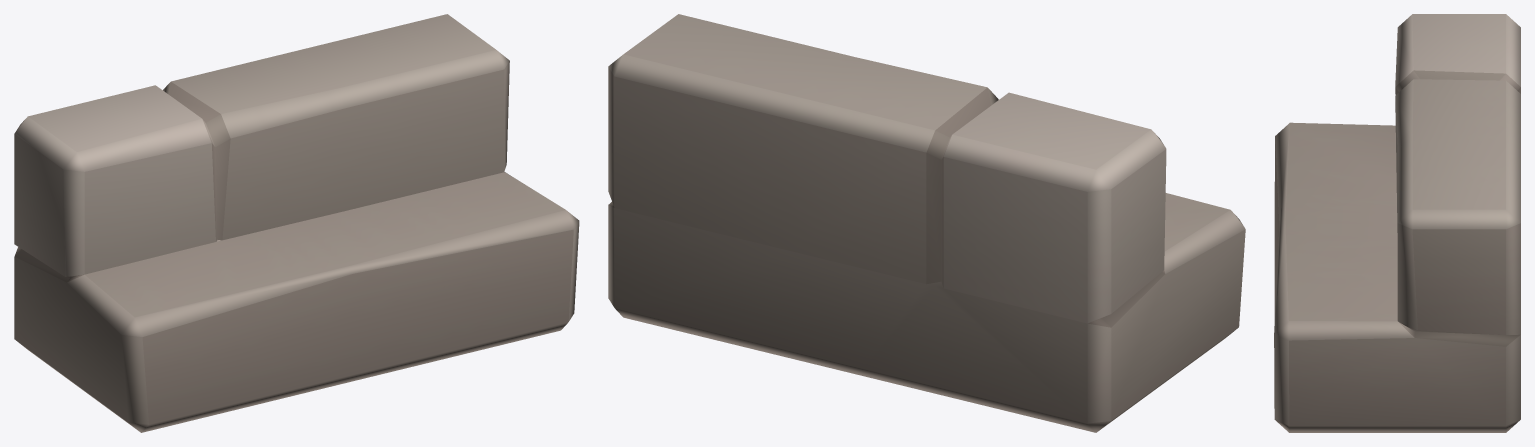
The model's file is elf_stairs_half_2_shade_2.fbx.
The picture shows the model from 3 angles, left to right: view 1: azimuth 30°, elevation 25°; view 2: azimuth 150°, elevation 25°; view 3: azimuth 270°, elevation 25°; orthographic projection. The views are drawn at different scales.
Parts seen in each view (by area): view 1: elf_stairs_half_2_shade_2; view 2: elf_stairs_half_2_shade_2; view 3: elf_stairs_half_2_shade_2.
Part boxes in pixels (left/top/right/bottom): elf_stairs_half_2_shade_2: left=14, top=14, right=579, bottom=432; elf_stairs_half_2_shade_2: left=608, top=14, right=1245, bottom=432; elf_stairs_half_2_shade_2: left=1274, top=14, right=1520, bottom=432.
Size of the model in its own units: 102 by 50.51 by 50.1.
